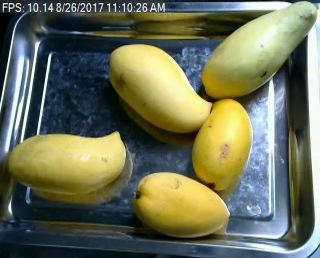Mango: (199, 1, 319, 103), (107, 40, 211, 133), (5, 126, 128, 196), (131, 166, 233, 240), (188, 95, 254, 192)
